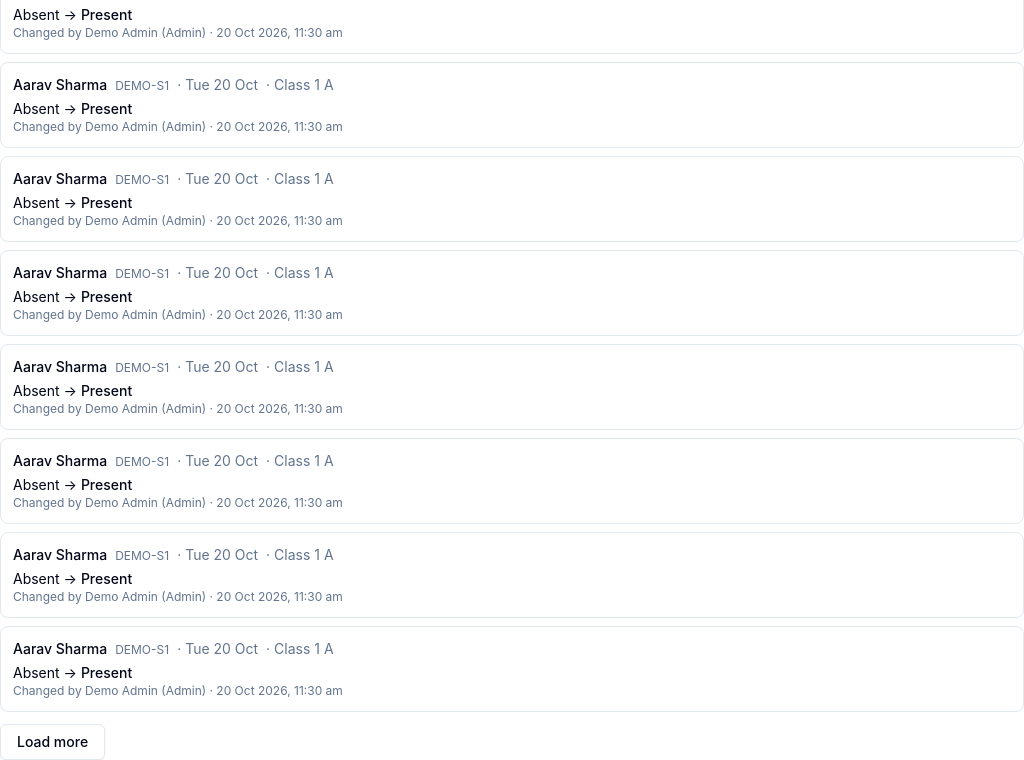
Scenario: attendance changes › lists old → new with the actor and pages with the change-id cursor
This screenshot has width=1024, height=760.
(page scrolled)
Click the button "Load more" at x=53, y=742, box [0,724,105,759]
(page scrolled)
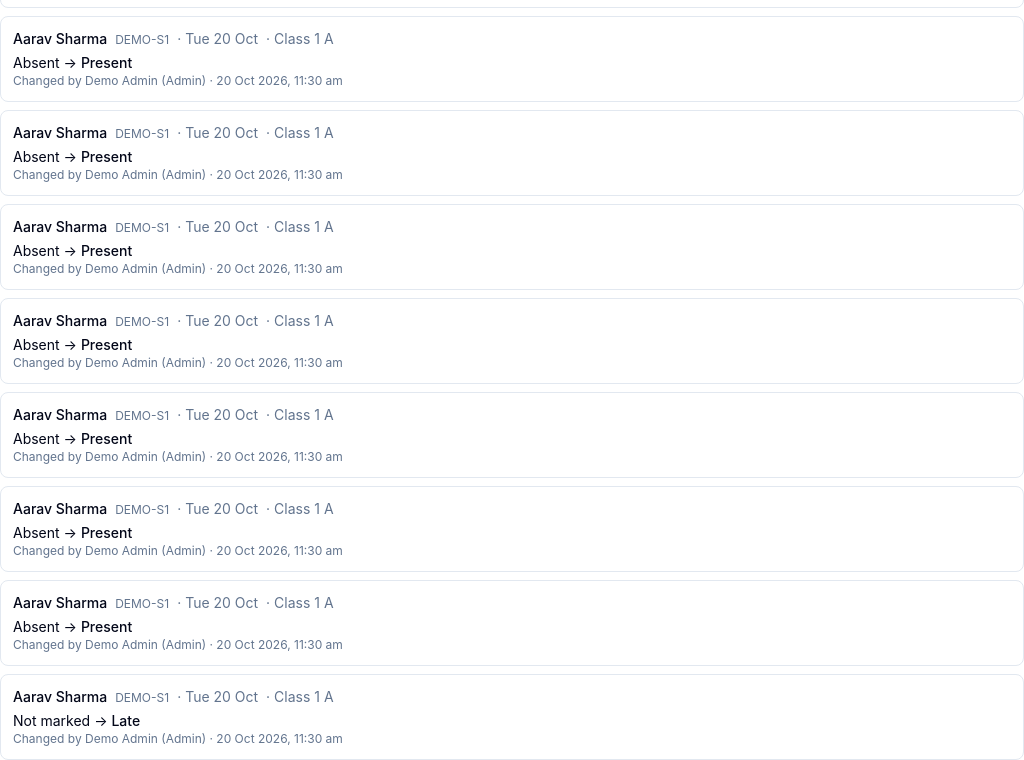
Now the button "Load more" is gone
